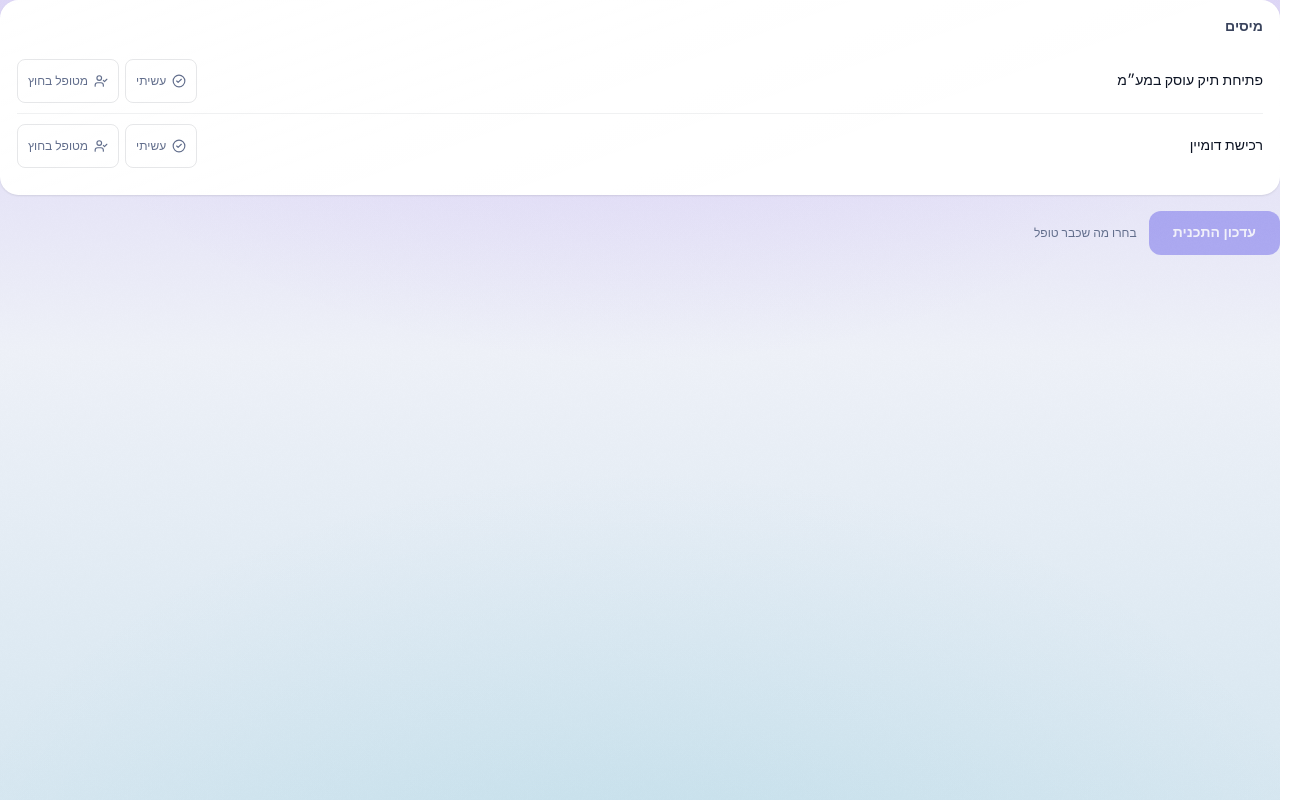
Test case: the artefact field › is not there until the row is marked done
Expected: the field labelled "מספר העוסק" is not shown
Click the button "עשיתי" in the row of "פתיחת תיק עוסק במע״מ".
click(161, 81)  # box [125,59,197,103]
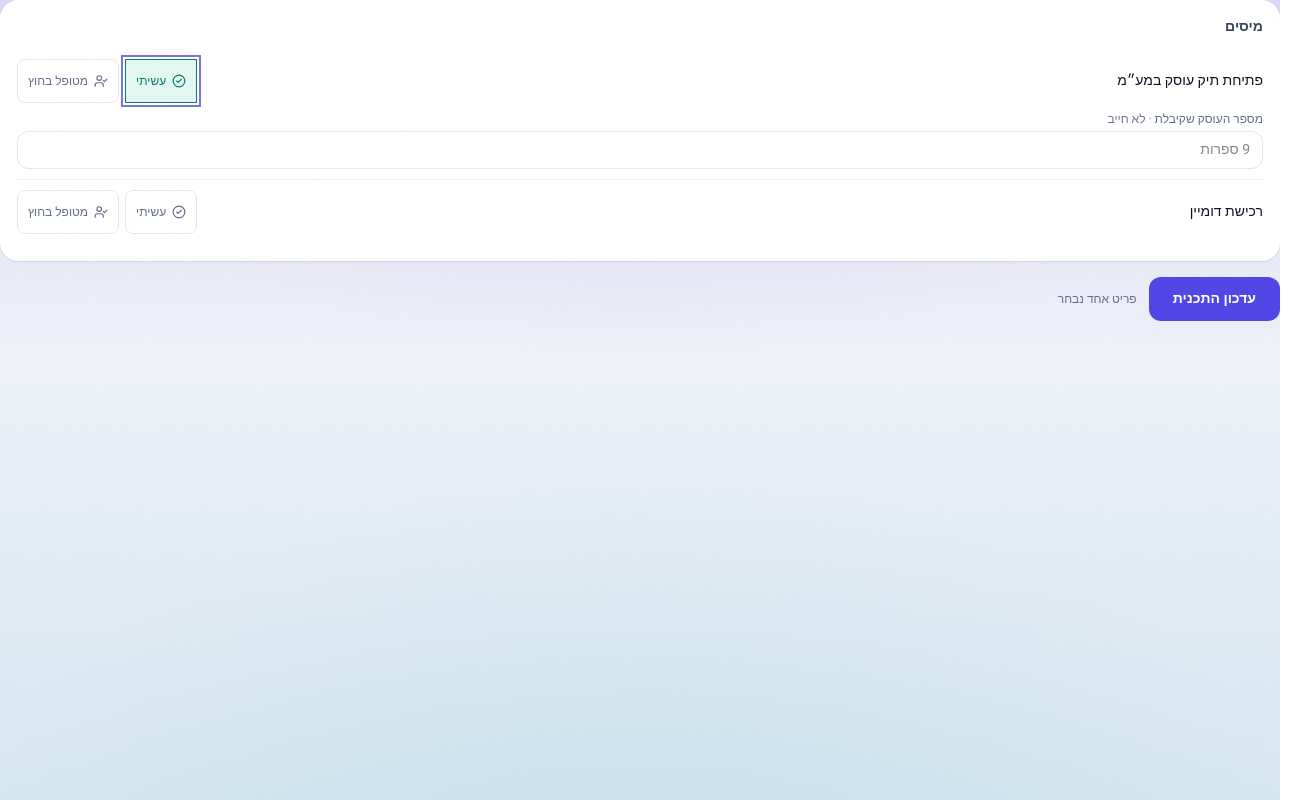
Now the field labelled "מספר העוסק שקיבלת · לא חייב" is shown, box [17,131,1263,169]
